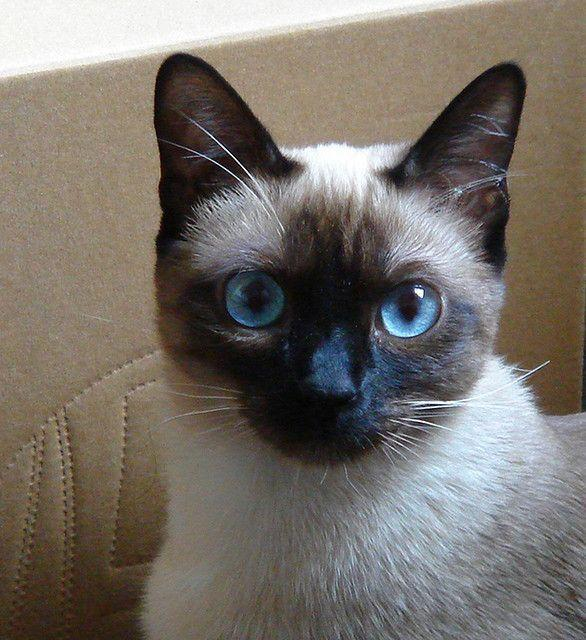siamese: (144, 40, 534, 476)
